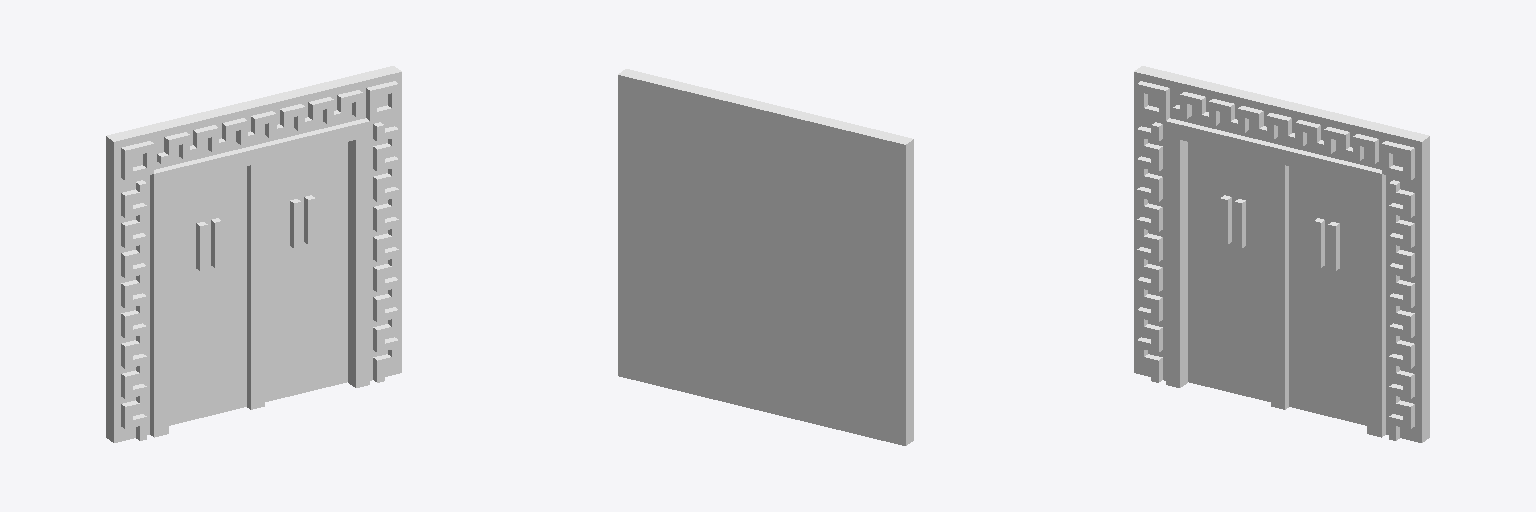
The model's file is level_door.obj.
The picture shows the model from 3 angles: view 1: azimuth 30°, elevation 25°; view 2: azimuth 150°, elevation 25°; view 3: azimuth 330°, elevation 25°; orthographic projection.
Size of the model in its own units: 40 by 40 by 3.